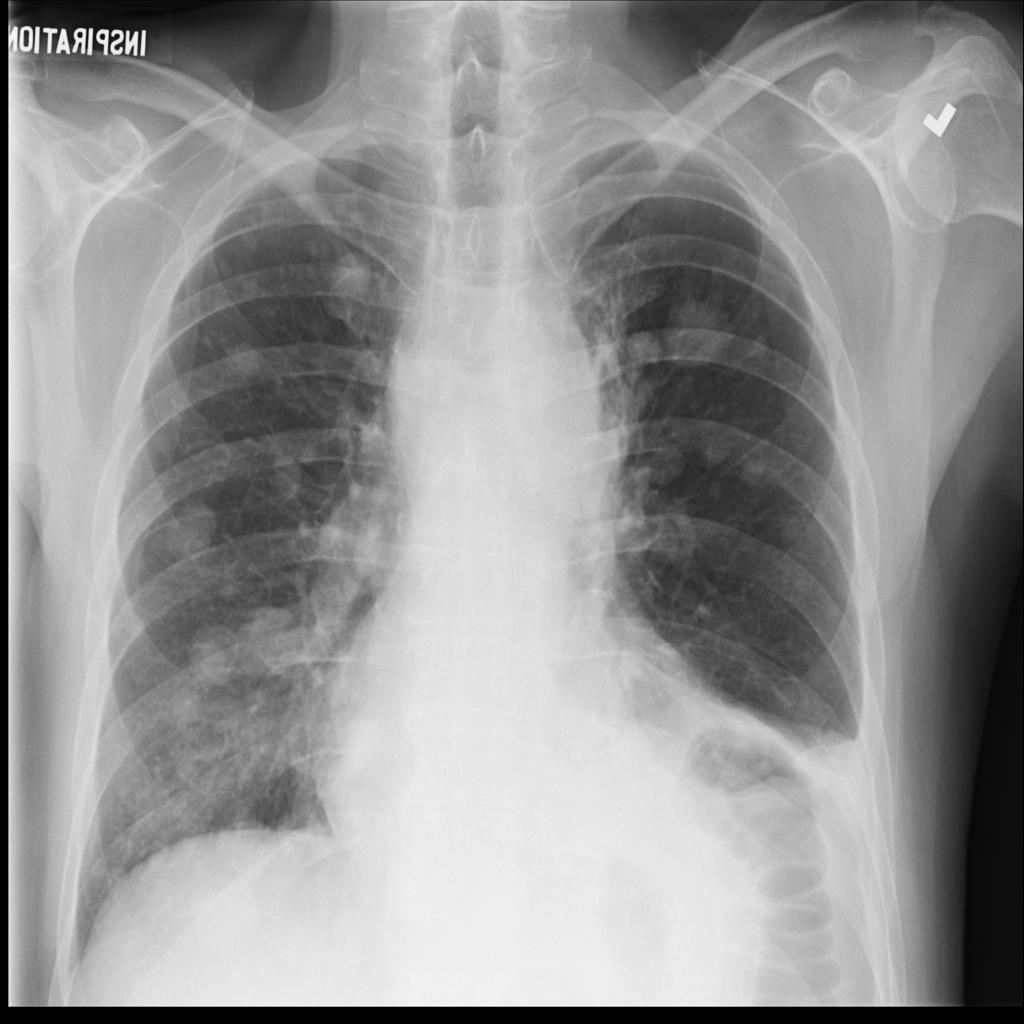nodule: (663, 287, 738, 377), (154, 487, 228, 572), (236, 600, 312, 675), (313, 242, 386, 317), (180, 613, 247, 692), (685, 408, 750, 483), (762, 488, 825, 564), (206, 325, 275, 394), (150, 674, 216, 744), (252, 439, 314, 513), (636, 433, 688, 488), (623, 317, 669, 374), (734, 441, 781, 496), (81, 845, 130, 897), (737, 321, 782, 372)
